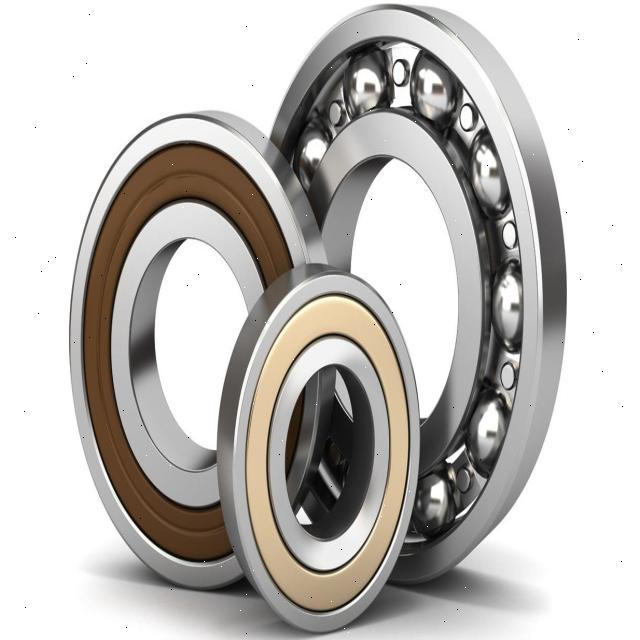Bearing: (266, 1, 568, 588), (68, 106, 338, 592), (216, 263, 422, 635)
